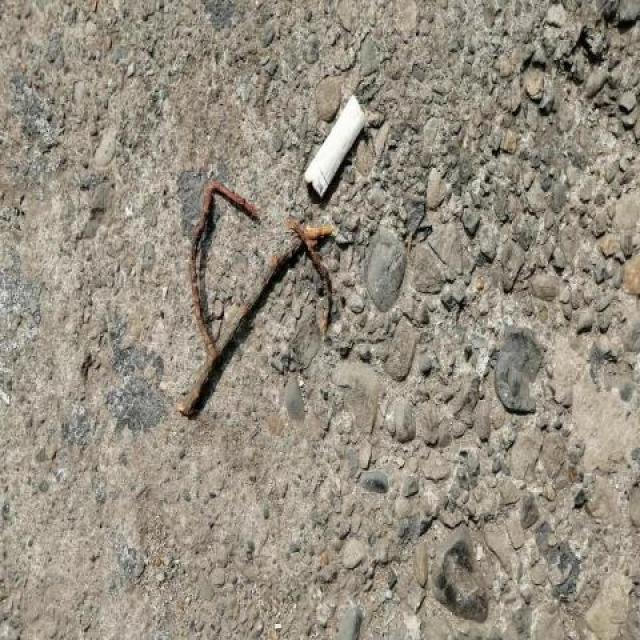non-organic waste: (300, 89, 372, 203)
